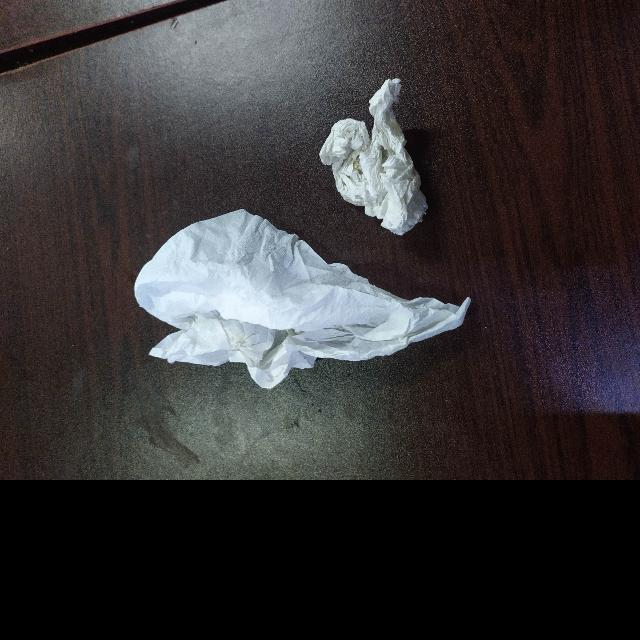kitchen paper: (132, 205, 476, 393), (316, 74, 432, 238)
